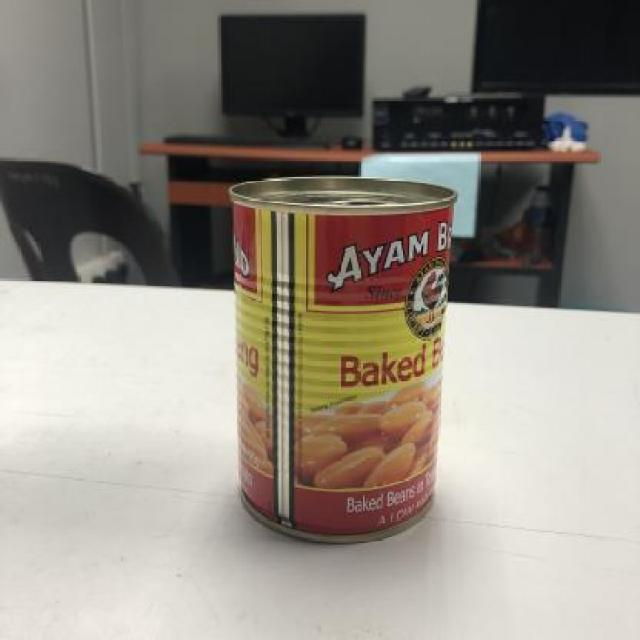metal-can: (236, 176, 454, 547)
